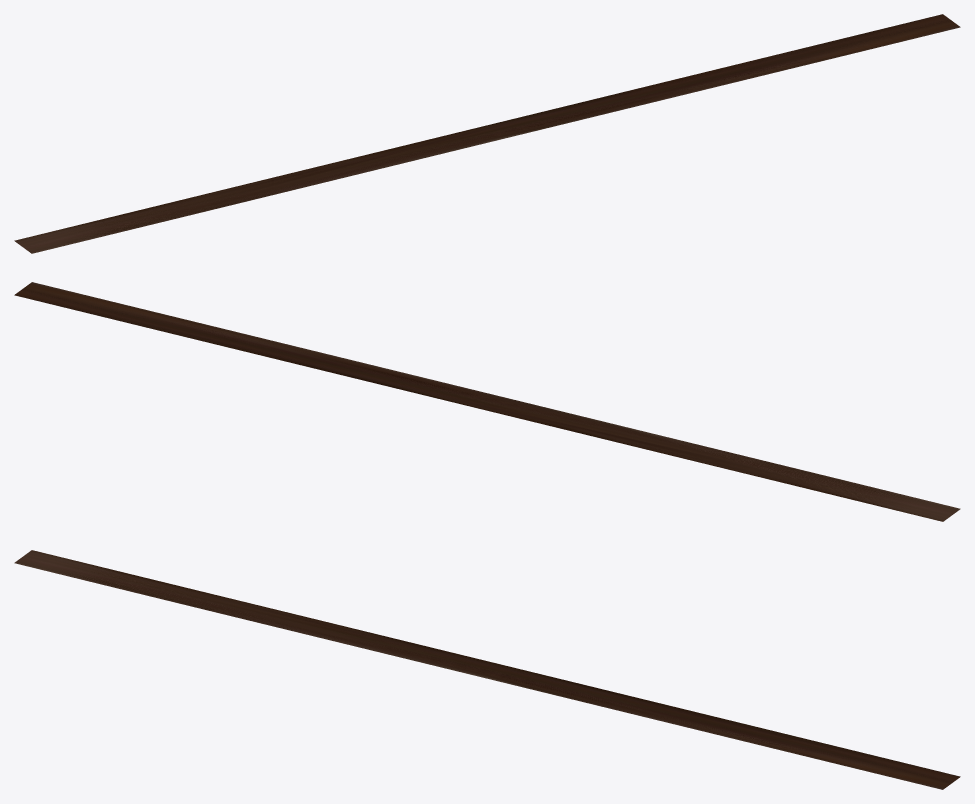
Rendered from TallWallStucco_60_footprint.fbx.
3 views of the same model, one above another, from view 1: azimuth 30°, elevation 25°; view 2: azimuth 150°, elevation 25°; view 3: azimuth 330°, elevation 25° (orthographic).
Visible parts, largest first — view 1: footprint; view 2: footprint; view 3: footprint.
Part boxes in pixels (box(x1,y1,x2,y2)): footprint: box(14, 14, 960, 253); footprint: box(14, 282, 960, 521); footprint: box(14, 550, 960, 789).
Bounding box in the file's own units: 6000 × 3.29e-05 × 202.
Materials: 1 (1 with a texture image).
